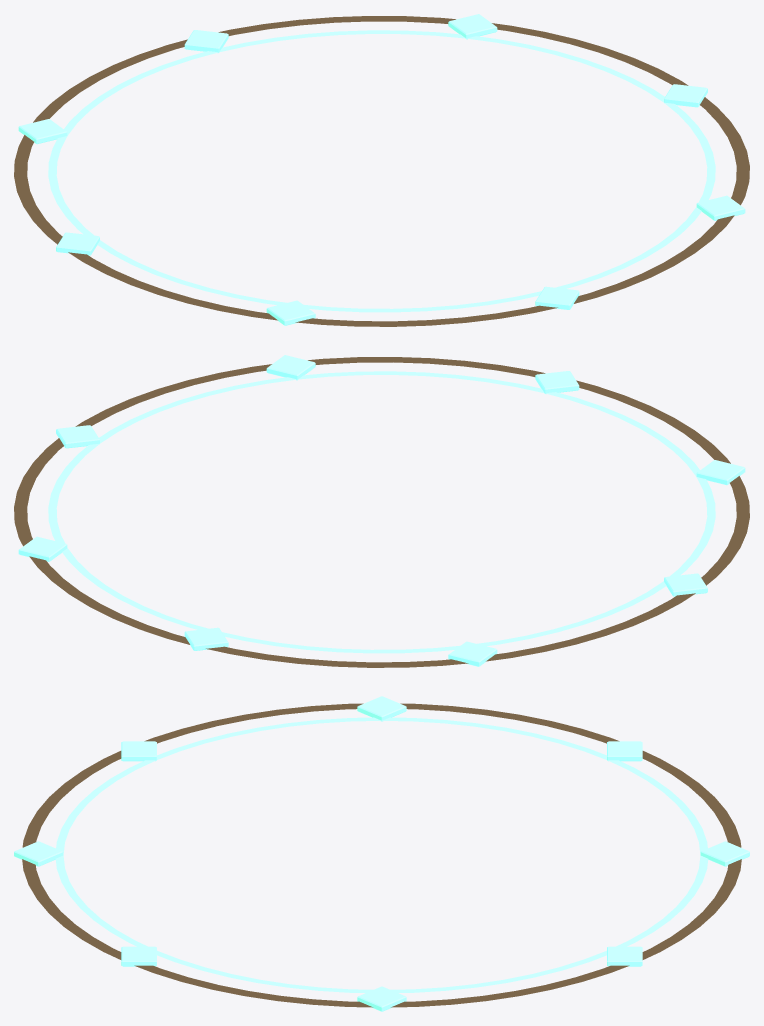
Rendered from SM_PG_RuneSeal.fbx.
3 renders of one model, top to bottom at view 1: azimuth 30°, elevation 25°; view 2: azimuth 150°, elevation 25°; view 3: azimuth 270°, elevation 25°, orthographic. The views are drawn at different scales.
Visible parts, largest first — view 1: SM_PG_RuneSeal; view 2: SM_PG_RuneSeal; view 3: SM_PG_RuneSeal.
Boxes of the visible parts, x1,y1,x2,y2 form: SM_PG_RuneSeal: (14,14,749,326); SM_PG_RuneSeal: (14,355,749,667); SM_PG_RuneSeal: (14,696,749,1011).
Size of the model in its own units: 141 by 141 by 1.2.
